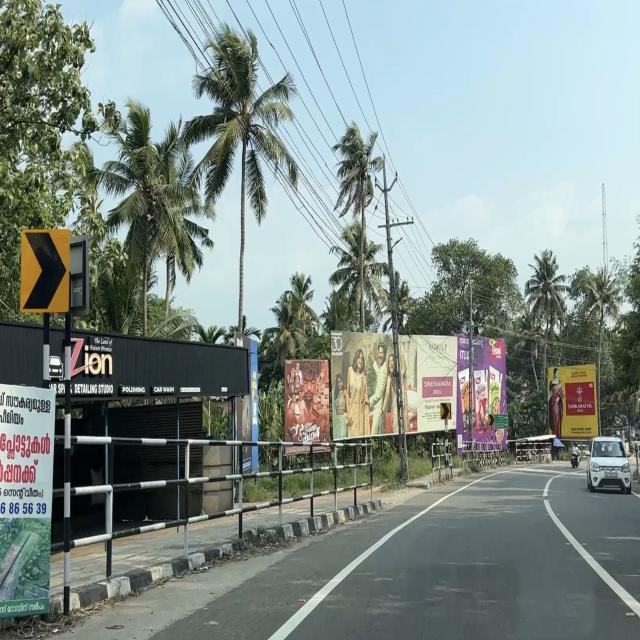TURN_RIGHT: (20, 228, 70, 314), (440, 402, 450, 420), (488, 414, 495, 426)
